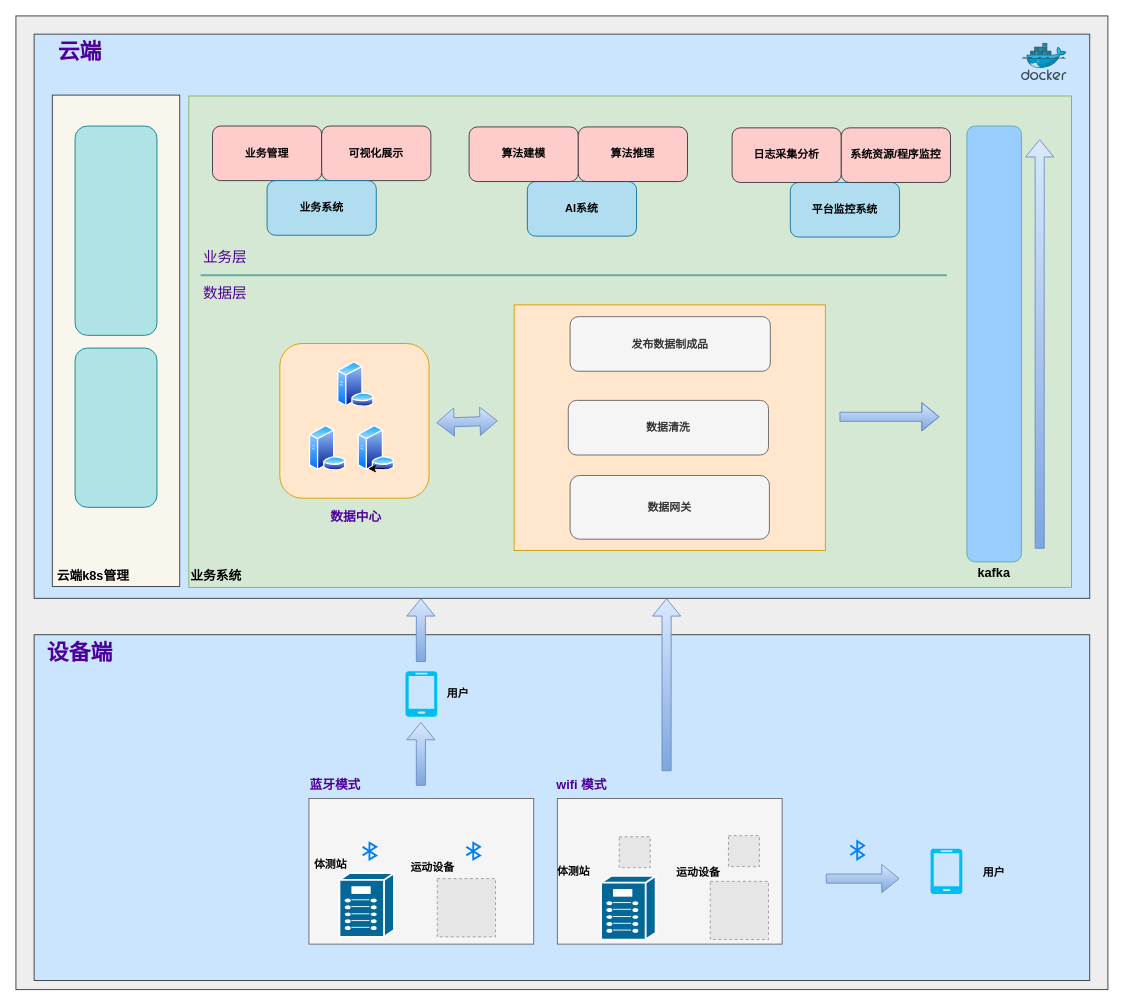
This 1124x1006 diagram has some shape labels left out. Grey dashed boxes stand in for pictures. Each missing label, with the box of its shape:
消息总线: (966, 125, 1021, 562)
资源调度: (74, 125, 157, 335)
资源预警: (74, 347, 157, 507)
